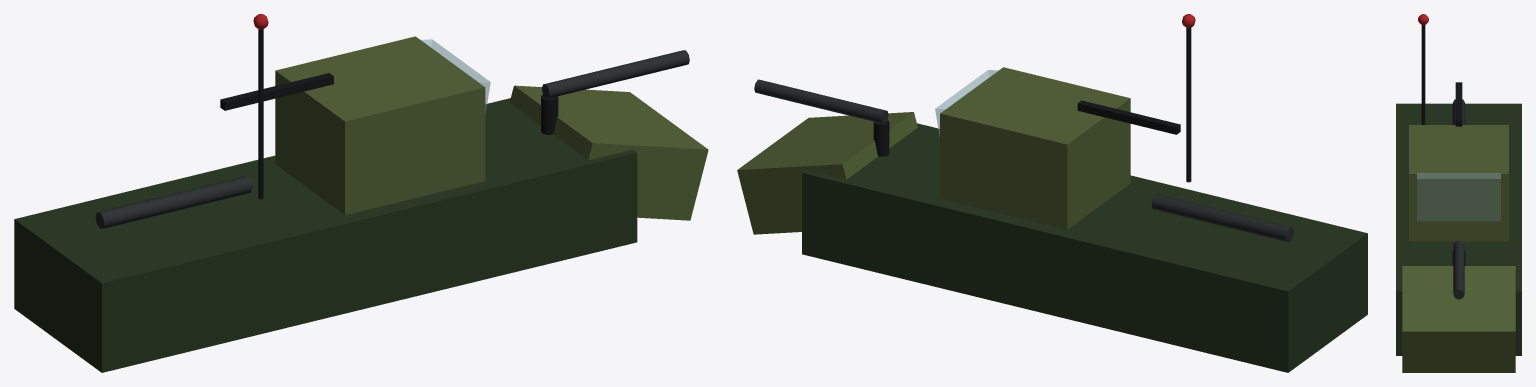
Rendered from pbr-patrol-boat.glb.
3 renders of one model, left to right at view 1: azimuth 30°, elevation 25°; view 2: azimuth 150°, elevation 25°; view 3: azimuth 270°, elevation 25°, orthographic. The views are drawn at different scales.
Visible parts, largest first — view 1: hull, pilotHouse, bowSlope, sternGunBarrel, bowTwinGun, antennaRack, radioAntenna, windshield, bowPedestal; view 2: hull, pilotHouse, bowSlope, sternGunBarrel, bowTwinGun, antennaRack, radioAntenna, windshield, bowPedestal; view 3: bowSlope, pilotHouse, hull, windshield, bowTwinGun, radioAntenna, antennaRack, sternGunBarrel.
Boxes of the visible parts, x1,y1,x2,y2 form: hull: [14, 98, 637, 372]; pilotHouse: [275, 36, 485, 214]; bowSlope: [509, 85, 708, 220]; sternGunBarrel: [95, 176, 252, 228]; bowTwinGun: [542, 50, 689, 98]; antennaRack: [220, 73, 333, 110]; radioAntenna: [258, 29, 263, 199]; windshield: [421, 39, 490, 113]; bowPedestal: [541, 95, 558, 134]; hull: [802, 123, 1367, 372]; pilotHouse: [940, 67, 1130, 229]; bowSlope: [737, 112, 917, 234]; sternGunBarrel: [1151, 194, 1293, 241]; bowTwinGun: [754, 79, 888, 123]; antennaRack: [1077, 100, 1180, 134]; radioAntenna: [1186, 28, 1191, 182]; windshield: [935, 70, 998, 137]; bowPedestal: [873, 120, 889, 156]; bowSlope: [1402, 266, 1515, 372]; pilotHouse: [1409, 125, 1508, 241]; hull: [1396, 103, 1521, 355]; windshield: [1417, 173, 1500, 220]; bowTwinGun: [1453, 240, 1464, 299]; radioAntenna: [1421, 25, 1425, 124]; antennaRack: [1455, 82, 1462, 126]; sternGunBarrel: [1452, 99, 1465, 124].
Bounding box in the file's own units: 3.23 × 1.48 × 0.78.
